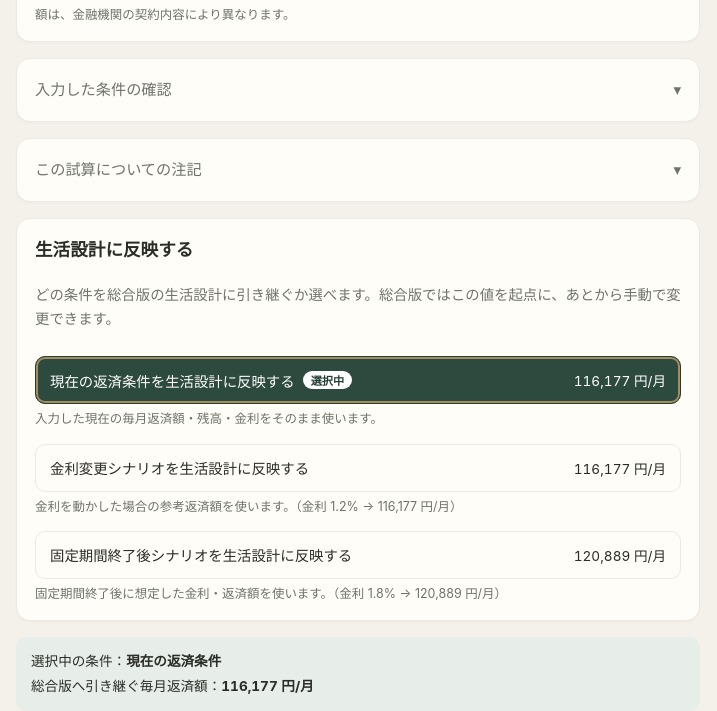
Test: ResultScreen 反映ボタンの選択状態 › 現在の返済条件を押すと保存メッセージが「現在の返済条件」になる
(page scrolled)
Click the button "現在の返済条件を生活設計に反映する 選択中 116,177 円/月" at (172, 381), box [35,356,681,404]
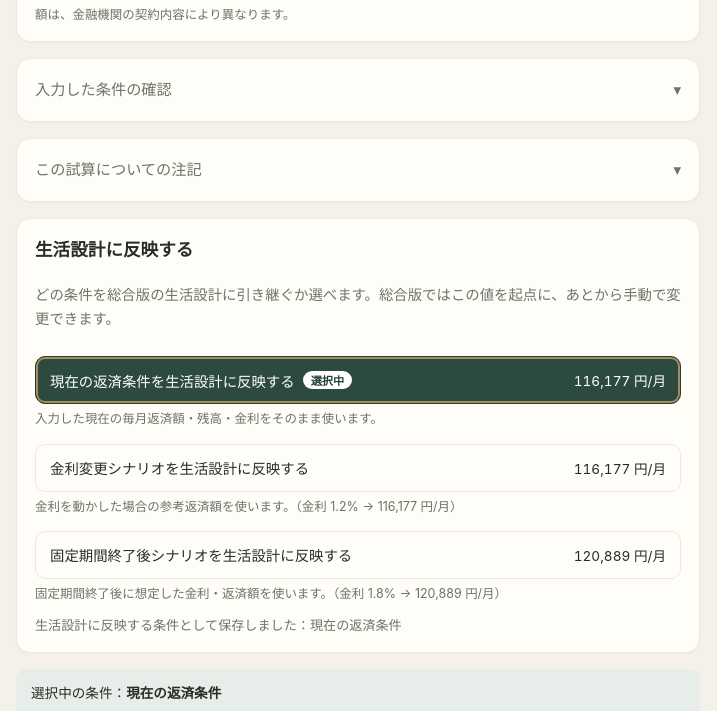
Result: the message shows "現在の返済条件" at [310,617,402,633]
